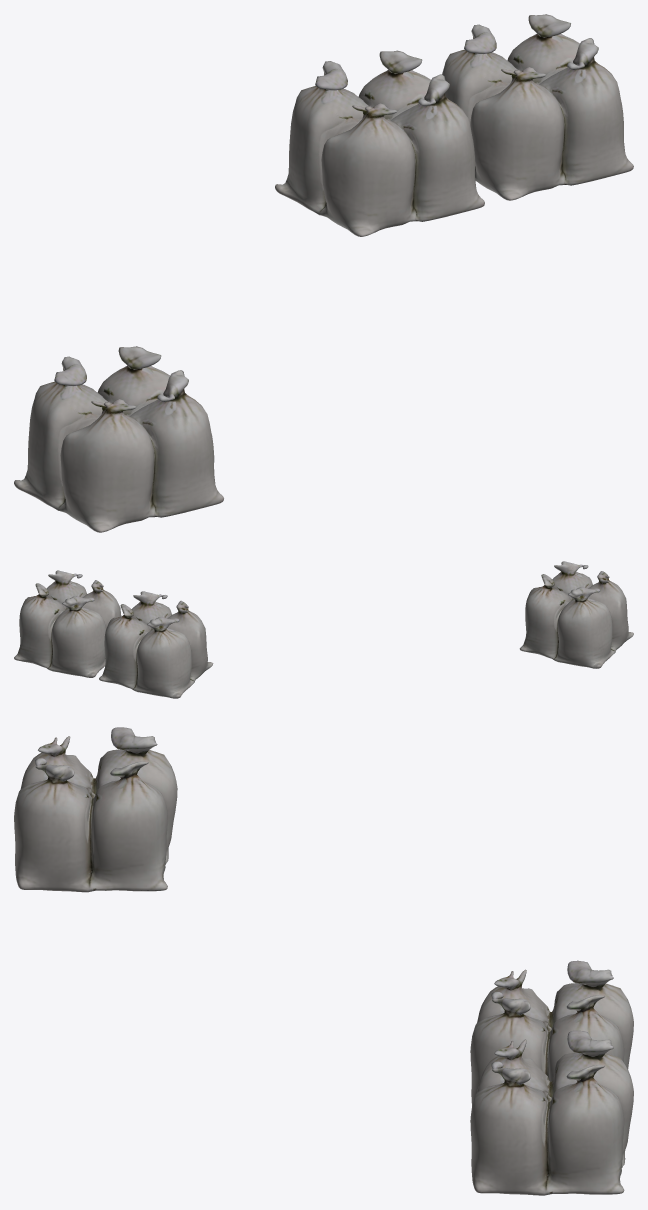
Rendered from Harina.obj.
3 renders of one model, top to bottom at view 1: azimuth 30°, elevation 25°; view 2: azimuth 150°, elevation 25°; view 3: azimuth 270°, elevation 25°, orthographic. The views are drawn at different scales.
Parts seen in each view (by area): view 1: Harina; view 2: Harina; view 3: Harina.
Boxes of the visible parts, bbox=[...] form: Harina: bbox=[14, 14, 633, 532]; Harina: bbox=[14, 561, 633, 698]; Harina: bbox=[14, 727, 633, 1195].
Size of the model in its own units: 30.1 by 4.53 by 21.28.
1 material, 1 textured.
